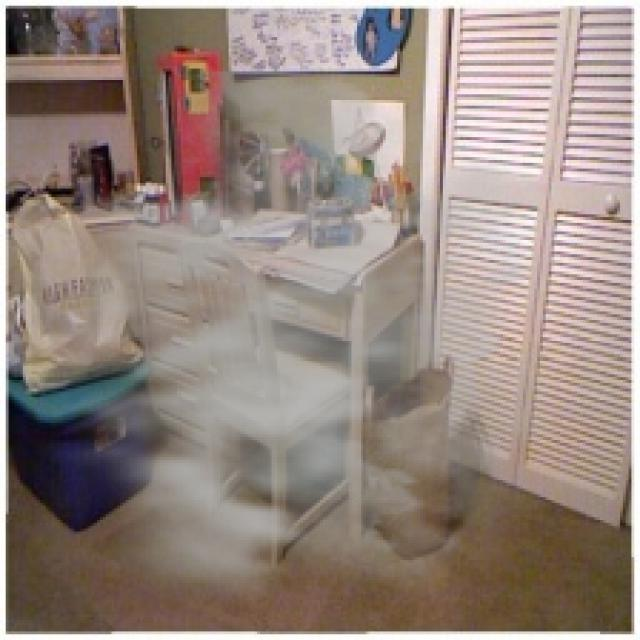smoke: (31, 71, 600, 634)
